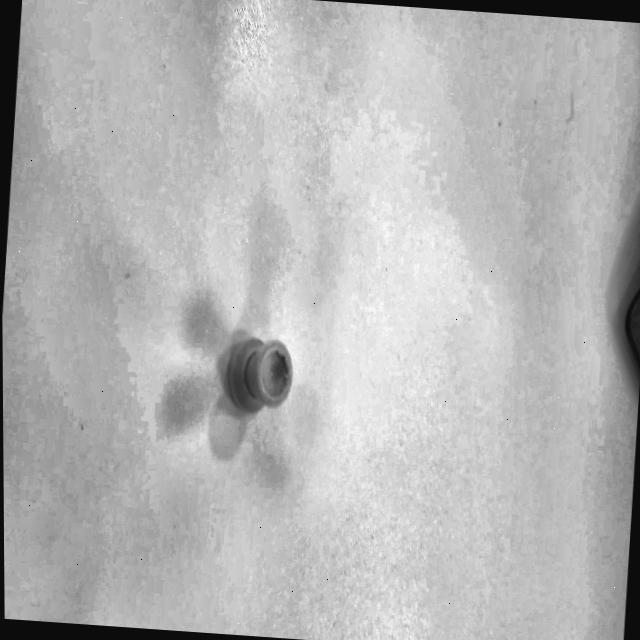white-rook: (204, 298, 304, 436)
